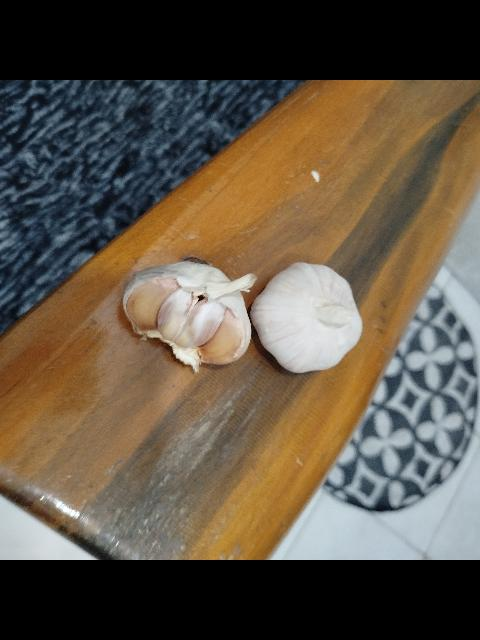garlic: (122, 258, 256, 372), (250, 262, 362, 374)
